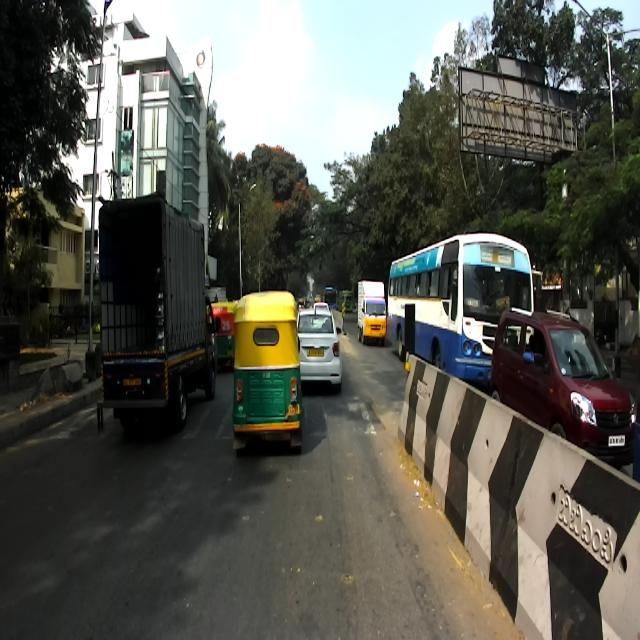auto ahead at: (232, 296, 304, 447)
car ahead at: (299, 310, 343, 389)
truck ahead at: (98, 191, 218, 422)
